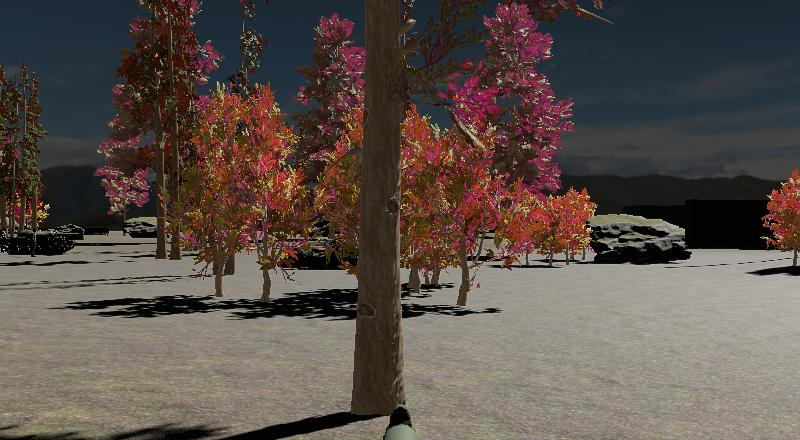Tank: (1, 226, 77, 256)
